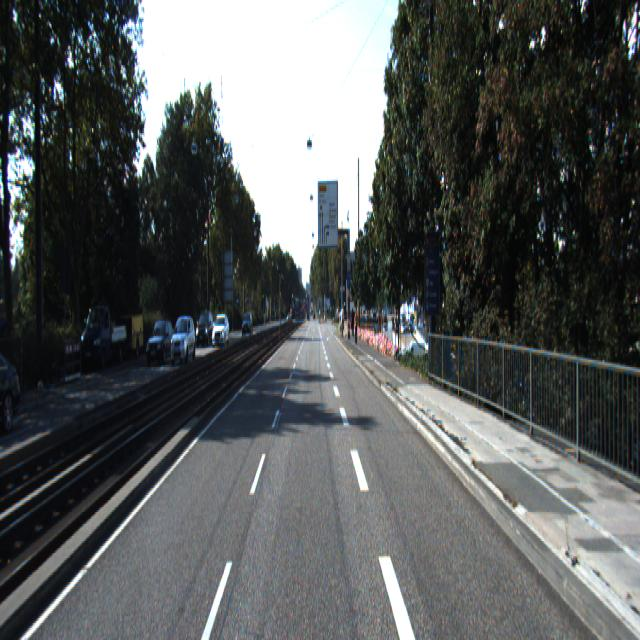Car: (0, 328, 31, 432), (146, 320, 178, 367), (170, 314, 197, 363), (196, 311, 215, 349), (211, 312, 230, 349)
DontCare: (361, 302, 421, 334), (338, 297, 358, 347), (240, 310, 253, 334)
Misc: (125, 316, 144, 362)
Van: (80, 302, 128, 372)
